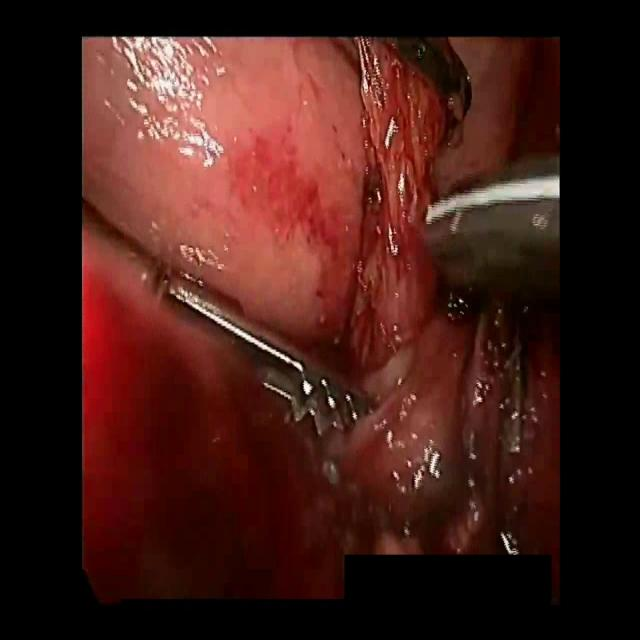surgical-area: (81, 36, 560, 600)
surgical-tool: (164, 272, 370, 434), (418, 169, 560, 229)
